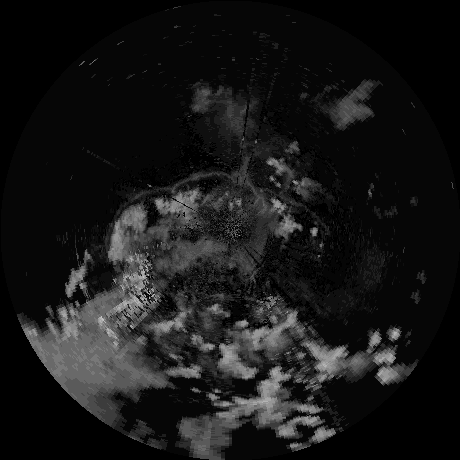frontgust: (277, 193, 335, 235), (111, 187, 167, 224), (171, 170, 239, 192)
